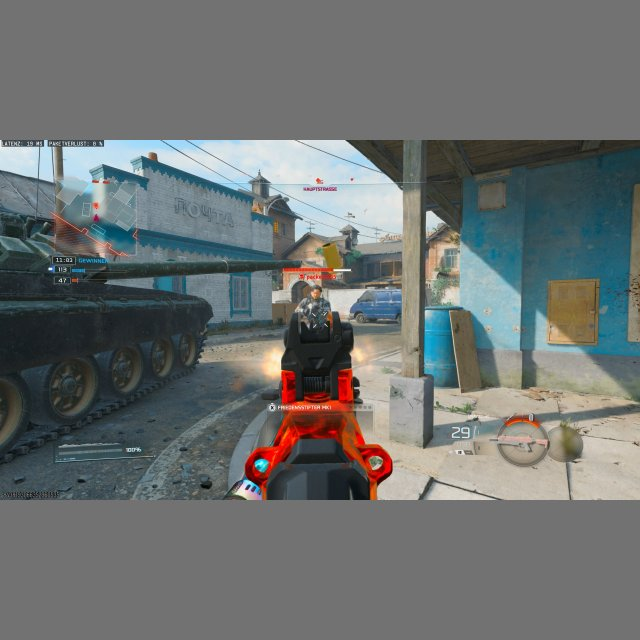head: (311, 285, 322, 301)
player: (295, 284, 331, 329)
